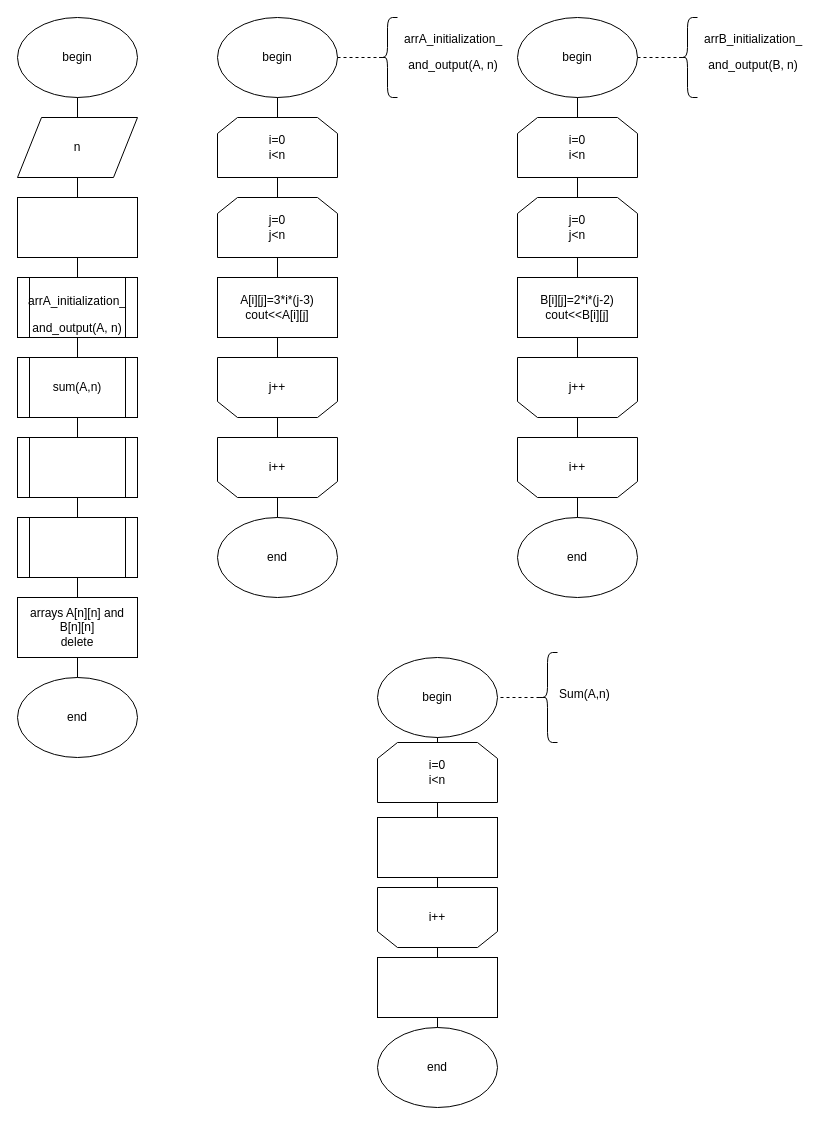
This 830x1125 diagram has some shape labels left out. Each missing label, with the box of its shape:
arrays A[n][n] and B[n][n] initialization: (16, 196, 138, 258)
arrB_initialization _ and_output (B, n): (16, 436, 138, 498)
return sum;: (376, 956, 498, 1018)
sum(B,n): (16, 516, 138, 578)
sum+=A[i][j]: (376, 816, 498, 878)
